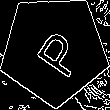P_NW: (24, 20, 84, 79)
